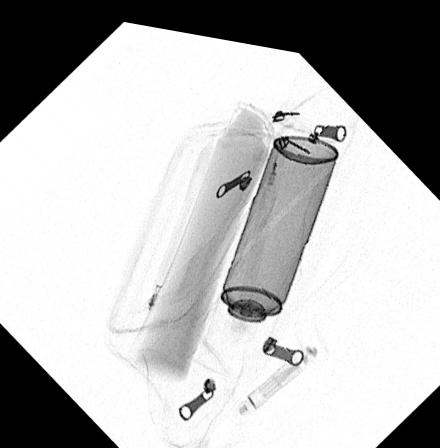Sprayer: (203, 124, 337, 344)
